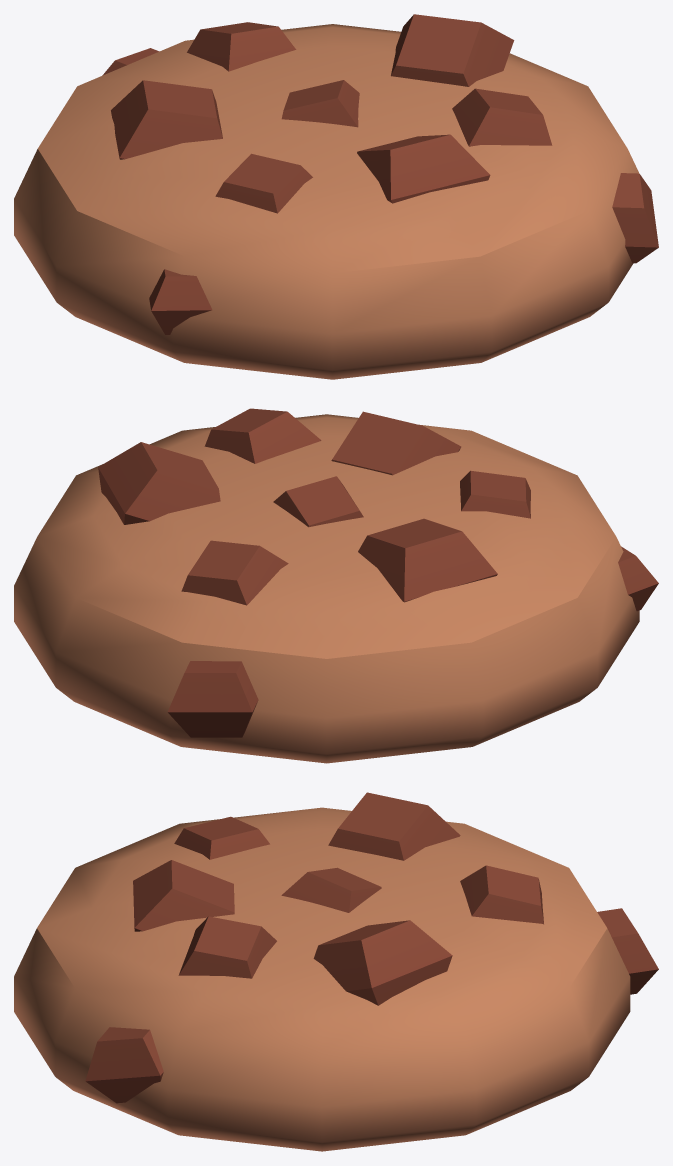
The model's file is cookie.glb.
The picture shows the model from 3 angles, top to bottom: view 1: azimuth 30°, elevation 25°; view 2: azimuth 150°, elevation 25°; view 3: azimuth 270°, elevation 25°; orthographic projection. The views are drawn at different scales.
Parts seen in each view (by area): view 1: cookie; view 2: cookie; view 3: cookie.
Boxes of the visible parts, <box> form: cookie: <box>14,14,658,379</box>; cookie: <box>14,408,658,763</box>; cookie: <box>14,792,658,1151</box>.
Size of the model in its own units: 0.511 by 0.1554 by 0.5348.
1 material, 1 textured.
